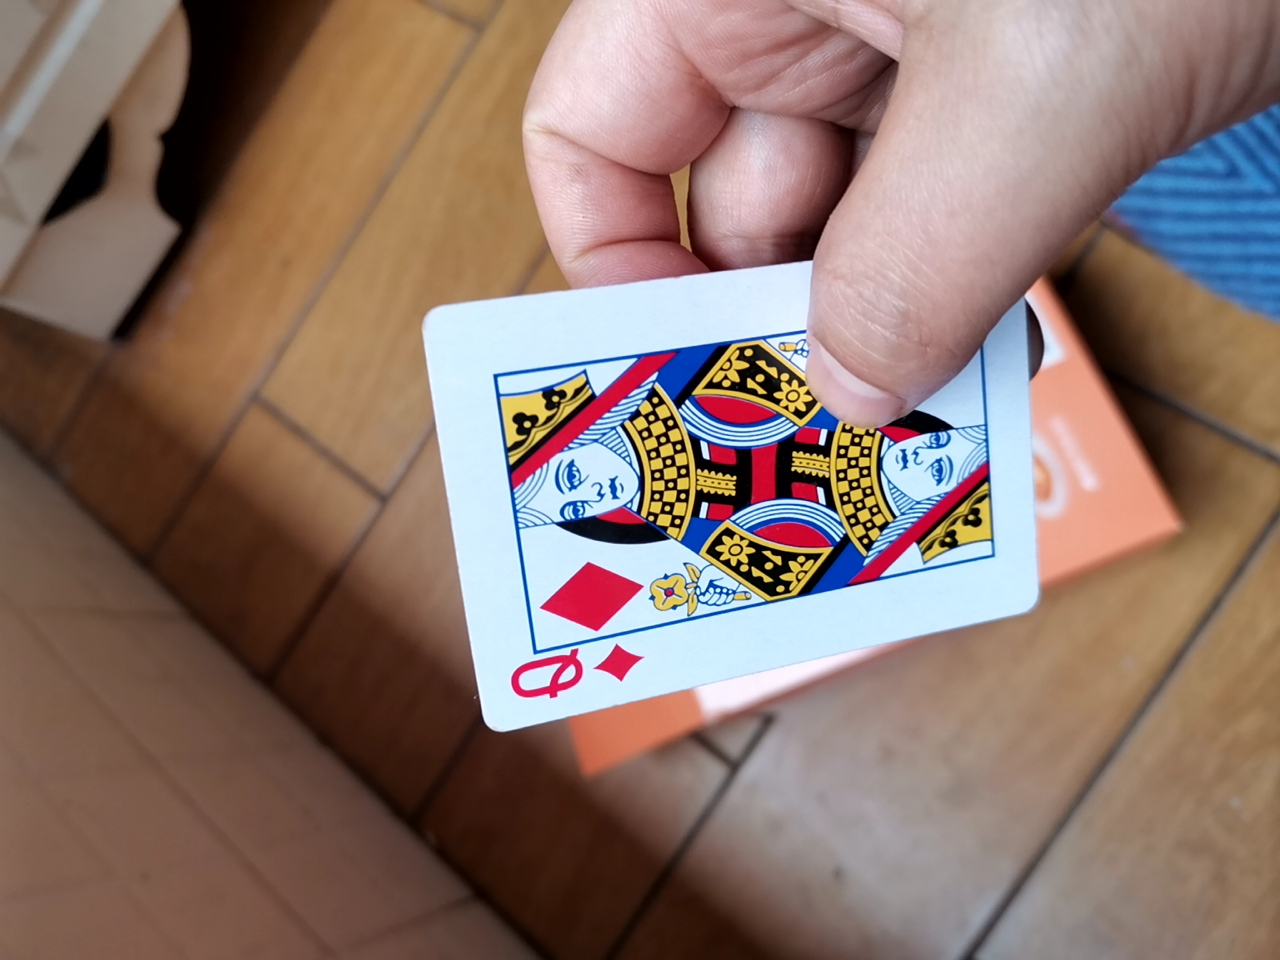fk q: (399, 247, 1063, 745)
